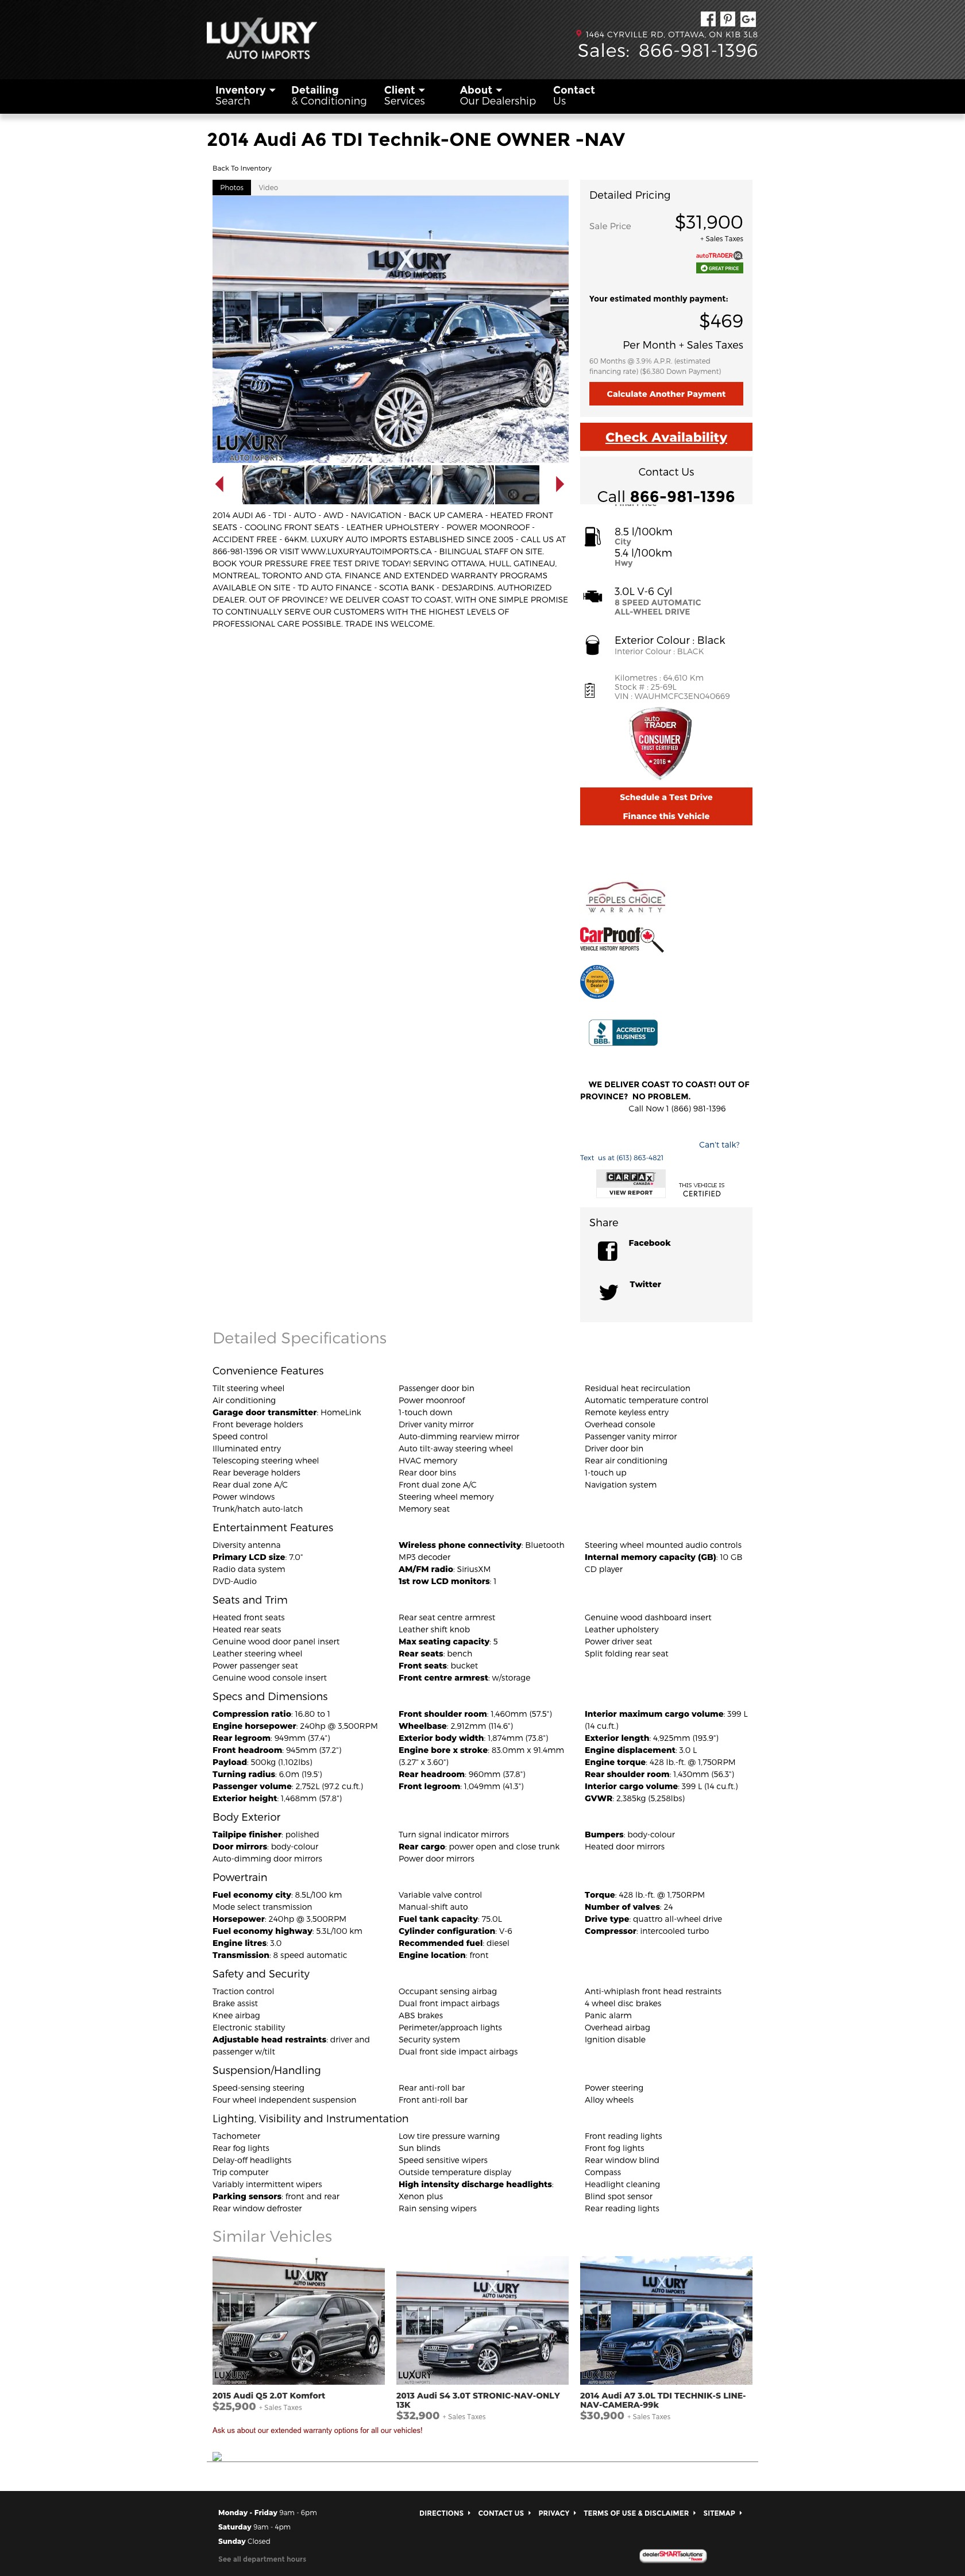car: (556, 475, 566, 494)
